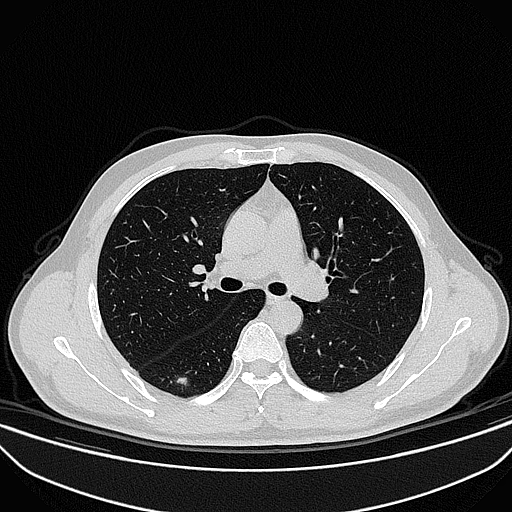nodule: (176, 377, 188, 385)
